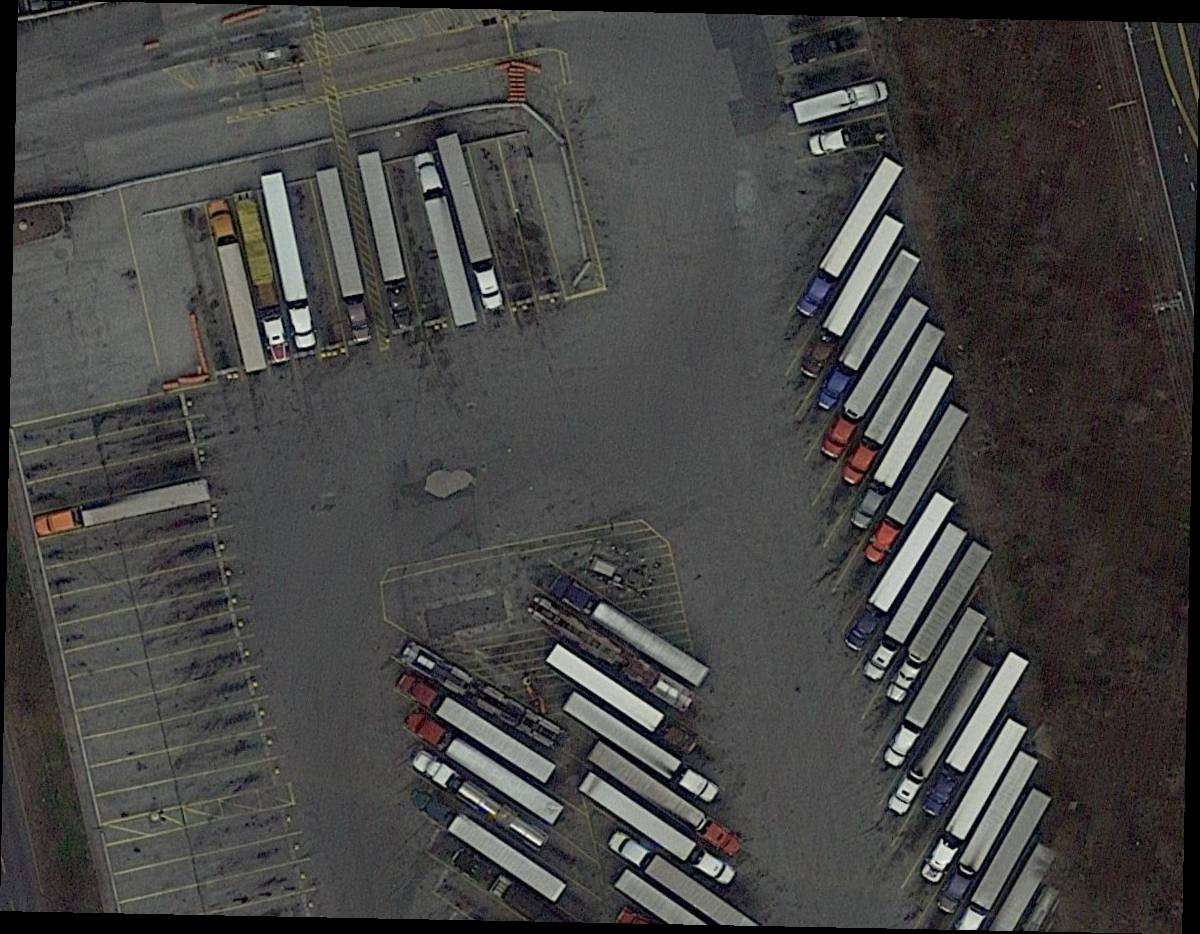large vehicle: (403, 708, 566, 826), (408, 787, 568, 903), (551, 573, 711, 689), (920, 651, 1030, 819), (588, 741, 744, 858), (561, 690, 721, 804), (819, 297, 930, 461), (794, 155, 905, 319), (843, 493, 955, 653), (883, 542, 992, 706), (397, 672, 556, 784), (799, 215, 905, 381), (579, 775, 736, 887), (886, 657, 995, 818), (882, 607, 989, 769), (922, 720, 1028, 883), (841, 323, 946, 487), (936, 750, 1040, 915), (817, 249, 922, 412), (850, 366, 954, 530), (864, 405, 969, 564), (862, 523, 967, 682), (546, 643, 695, 754), (434, 133, 506, 312), (414, 153, 478, 329), (206, 199, 268, 376), (357, 152, 415, 331), (261, 172, 318, 352), (36, 479, 212, 537), (316, 167, 373, 346), (234, 191, 289, 361), (789, 74, 892, 127)
